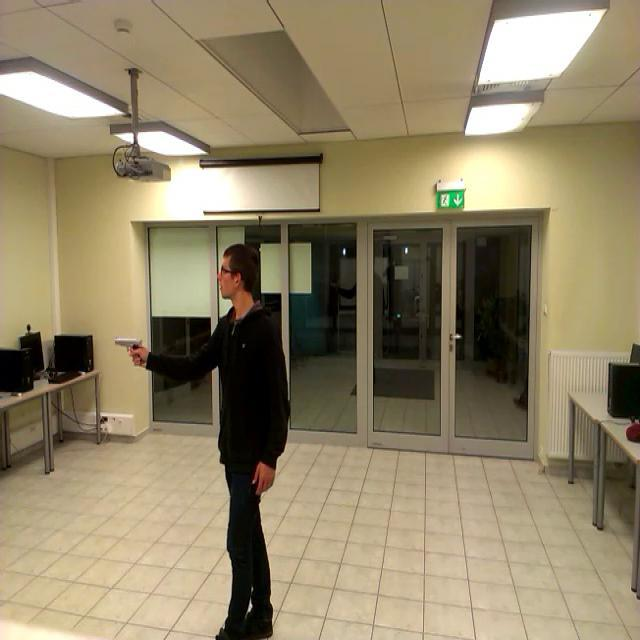Gun: (114, 337, 142, 364)
